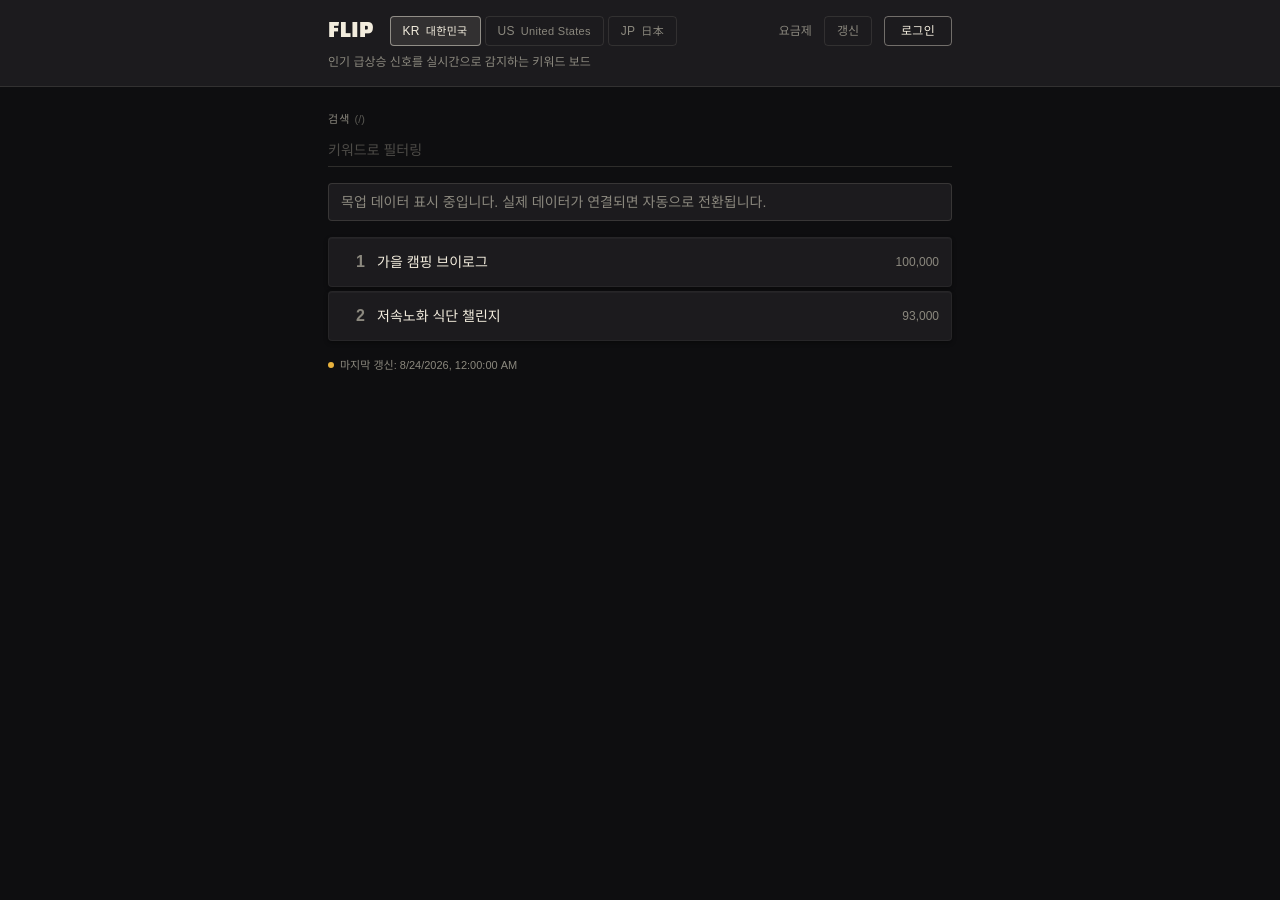
Scenario: Home dashboard › deep-linkable keyword detail (URL sync) › updates the URL when opening a keyword and removes it when closing
Click the button "가을 캠핑 브이로그": (432, 262) [377, 248, 884, 276]
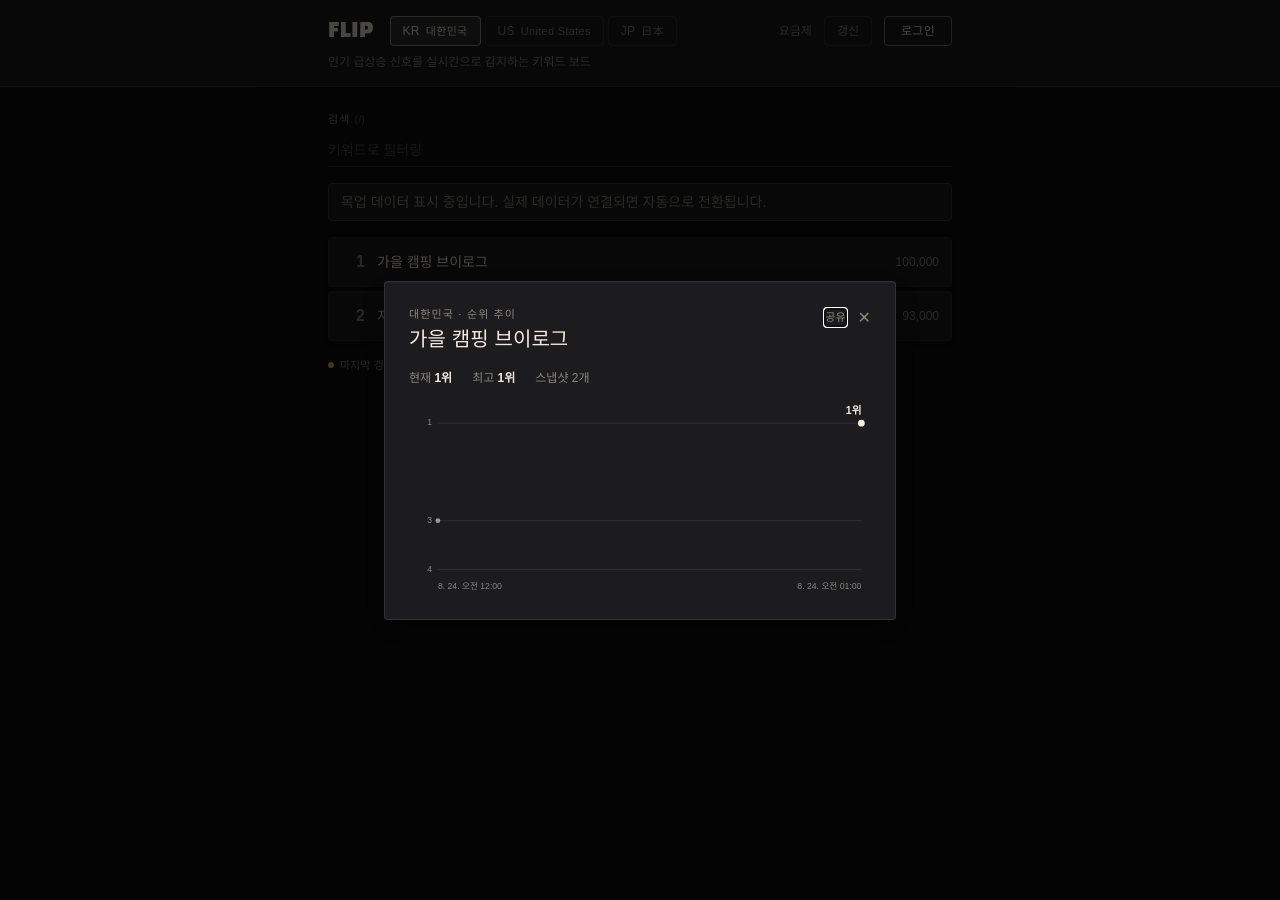
Now the dialog named "가을 캠핑 브이로그 순위 추이" is shown
Click the button named "닫기": (864, 318) [858, 306, 871, 330]
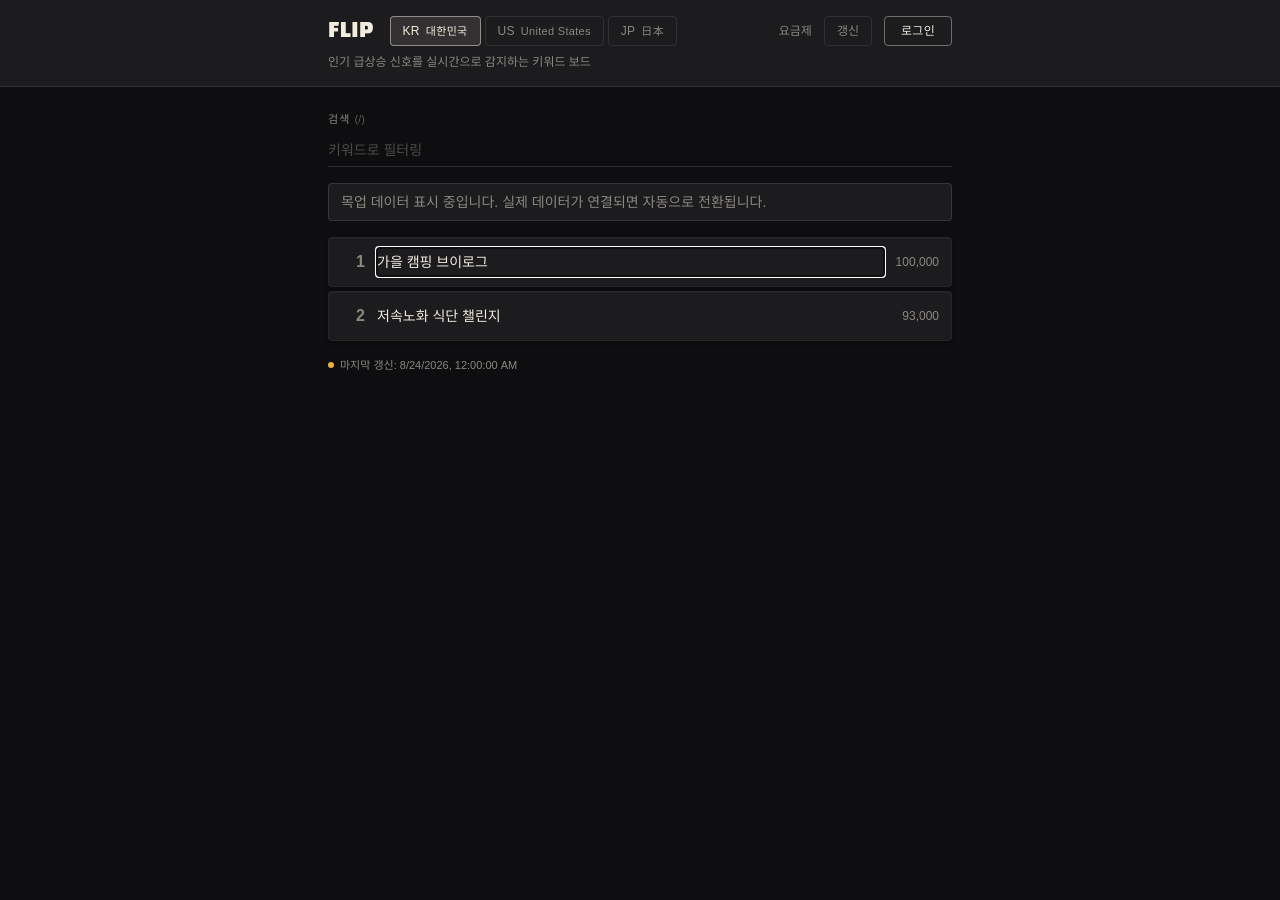
Now the dialog is gone
